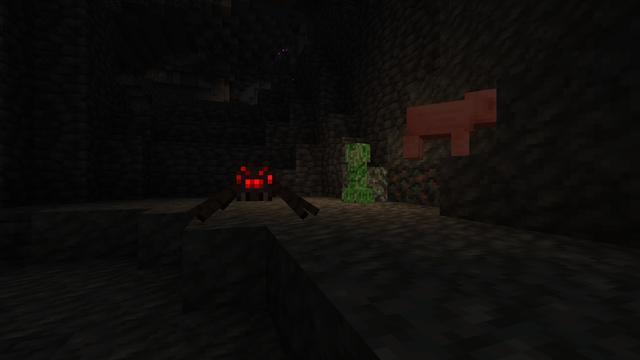araignees: (210, 159, 308, 225)
cochons: (401, 95, 481, 159)
creepers: (343, 139, 371, 202)
